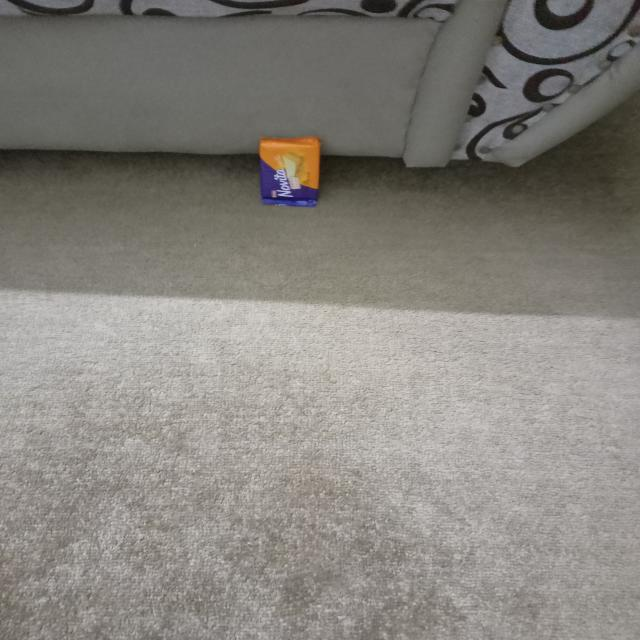Plastic: (250, 131, 334, 209)
